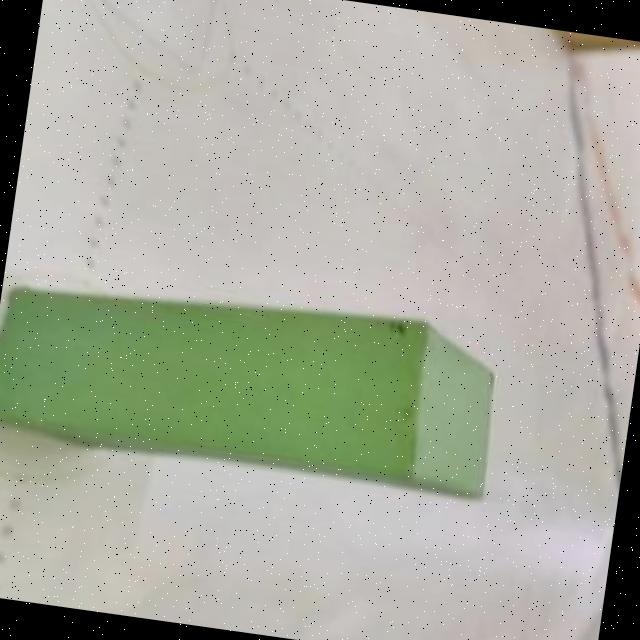greenbox: (0, 256, 507, 507)
